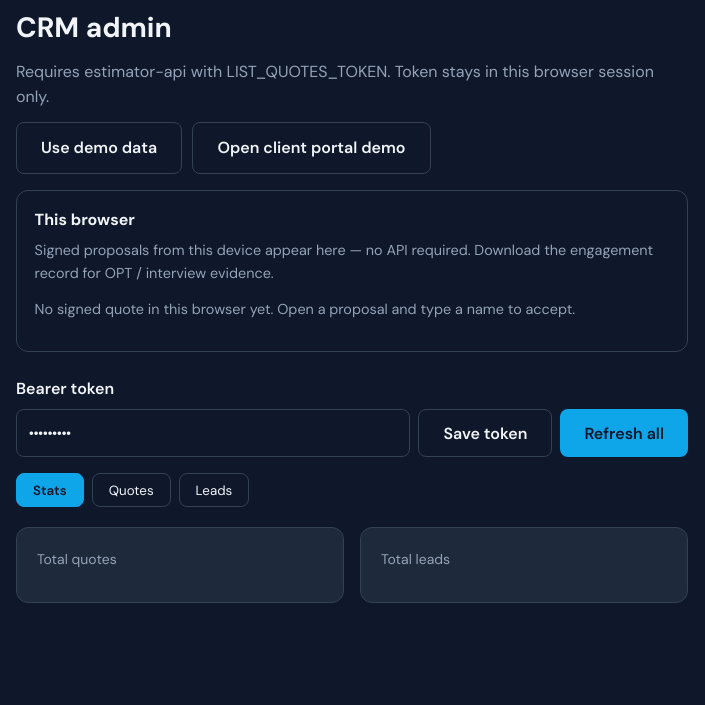
it: CrmAdmin › auto-loads live leads when a token is saved
Click the tab "Leads" at (214, 490), box [179,474,249,507]
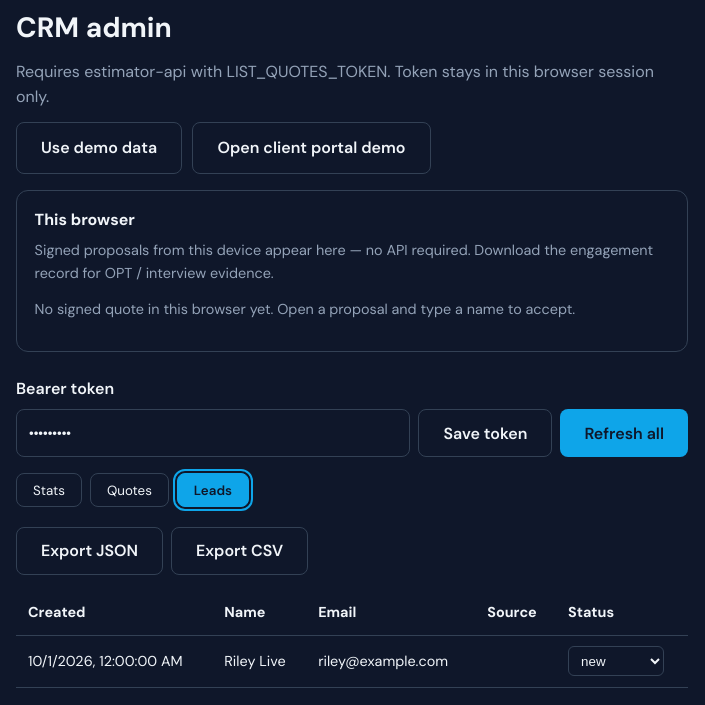
Now the text "Riley Live" is shown, box [212,635,306,687]
